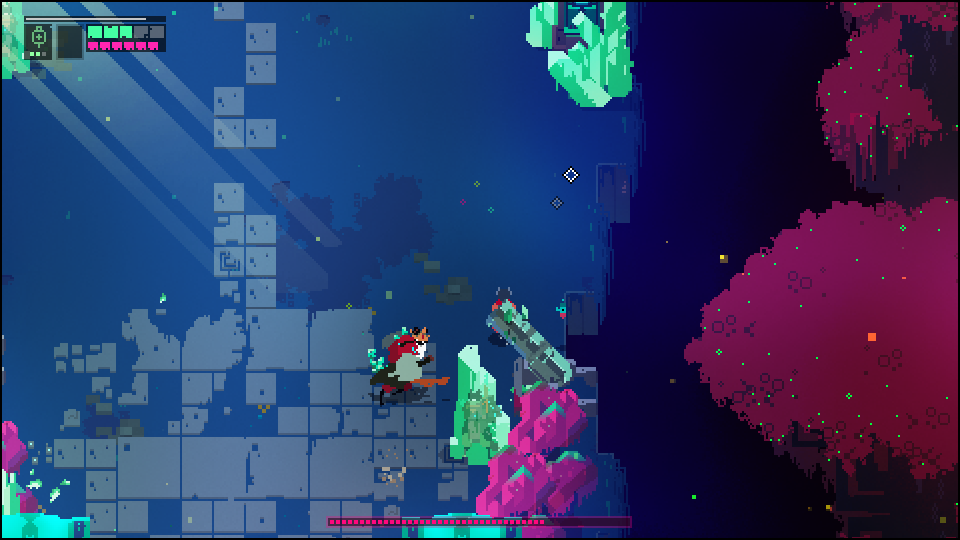hanged_man: (364, 326, 448, 401)
player: (488, 285, 522, 349)
